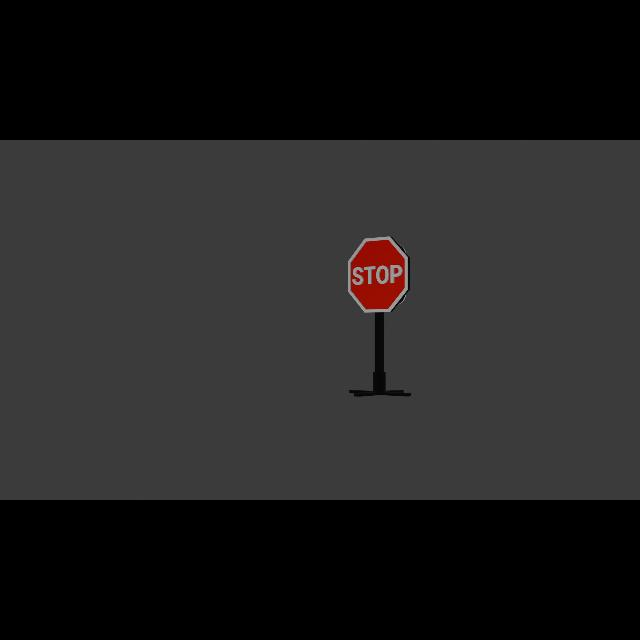sign_stop: (348, 237, 410, 314)
